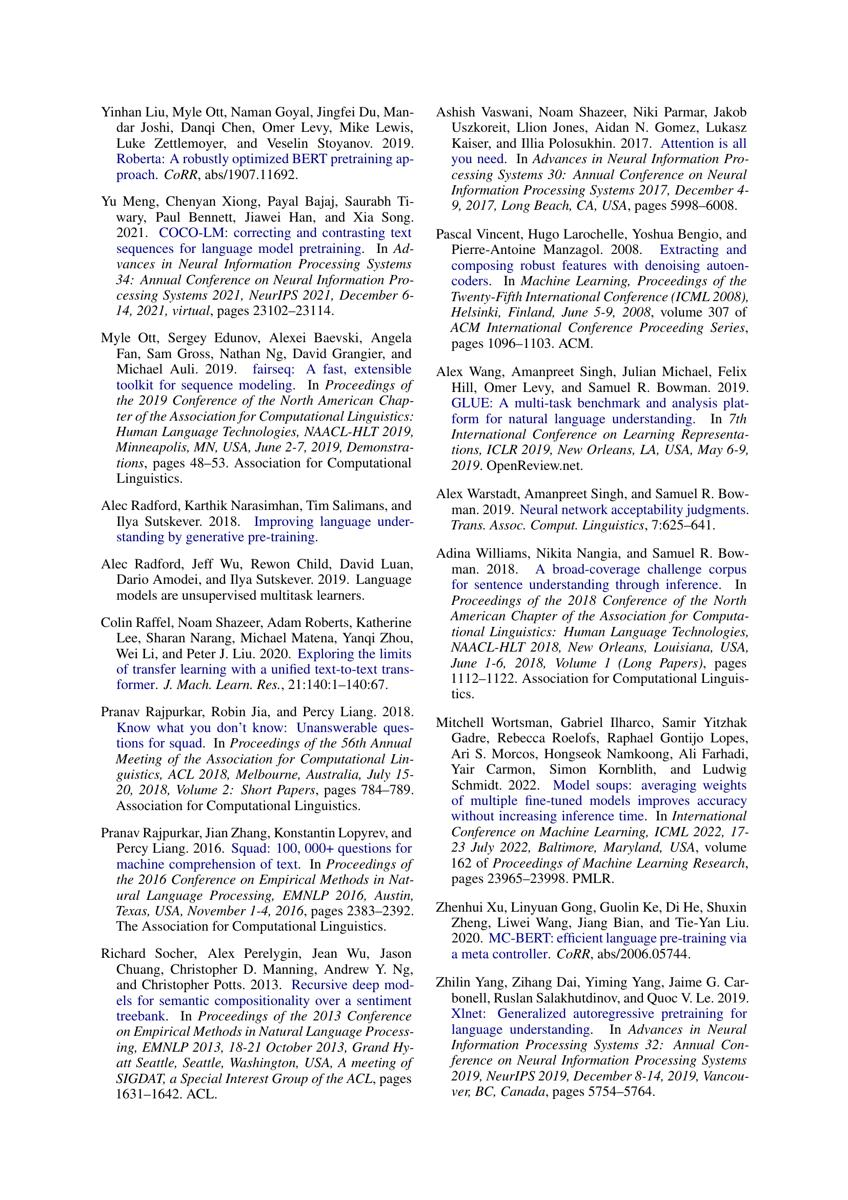text: (430, 100, 753, 703), (95, 100, 418, 605), (95, 613, 418, 1106), (430, 711, 753, 1103)
